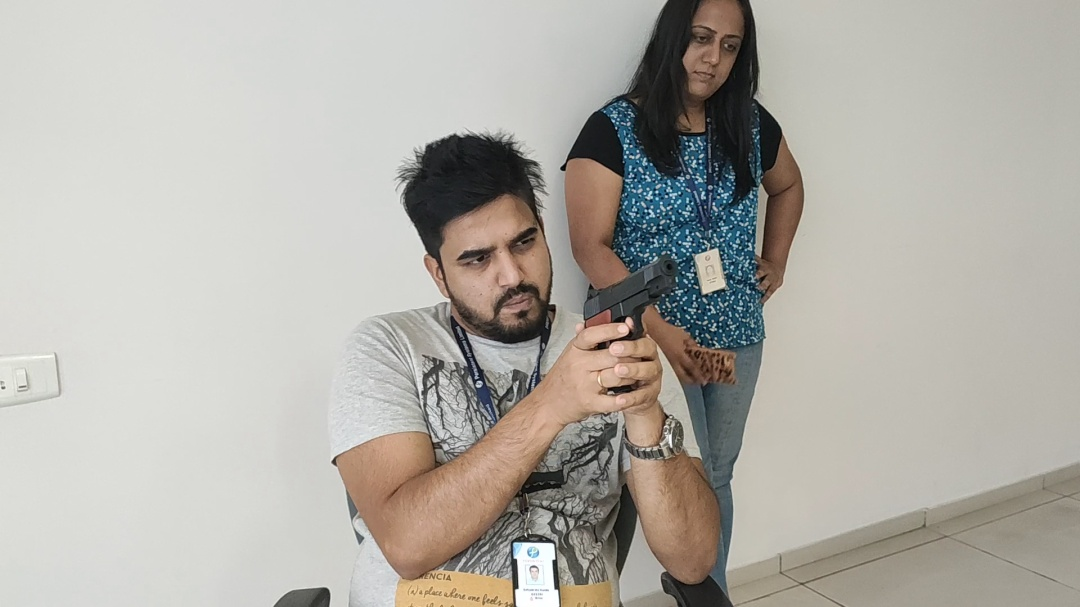gun: (582, 253, 678, 340)
